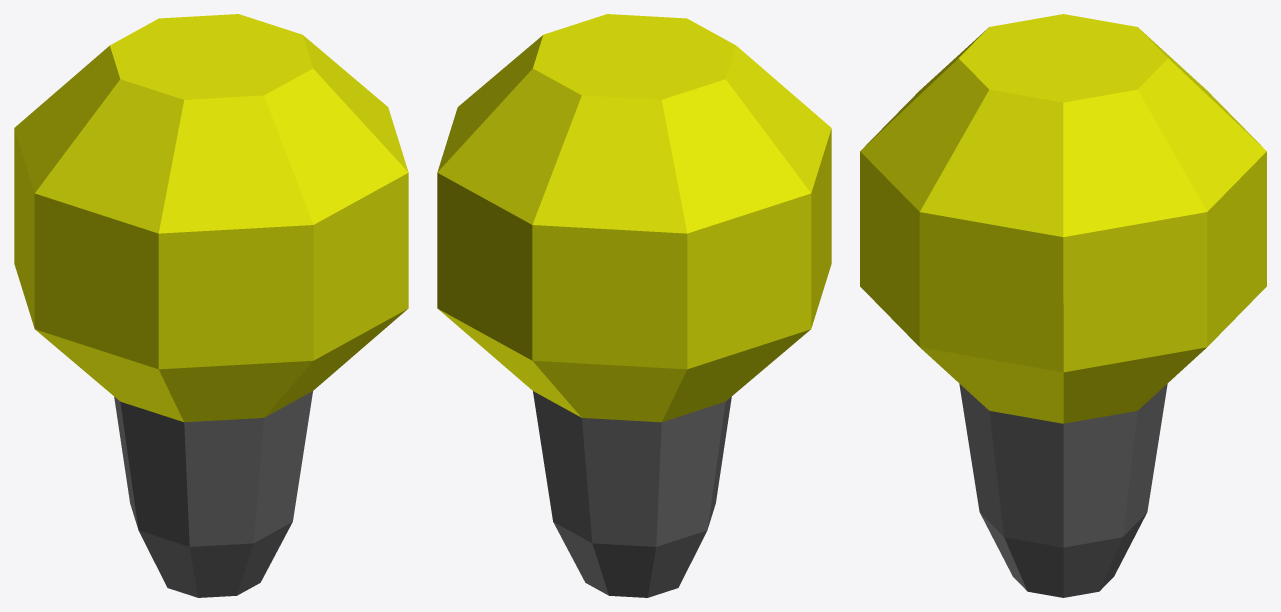
File: zarowka.fbx
3 views of the same model, side by side, from view 1: azimuth 30°, elevation 25°; view 2: azimuth 150°, elevation 25°; view 3: azimuth 270°, elevation 25° (orthographic).
Visible parts, largest first — view 1: Cylinder; view 2: Cylinder; view 3: Cylinder.
Boxes of the visible parts, x1,y1,x2,y2 form: Cylinder: (14, 14, 408, 597); Cylinder: (437, 14, 831, 597); Cylinder: (860, 14, 1266, 597).
Bounding box in the file's own units: 8.95 × 12.59 × 8.95.
